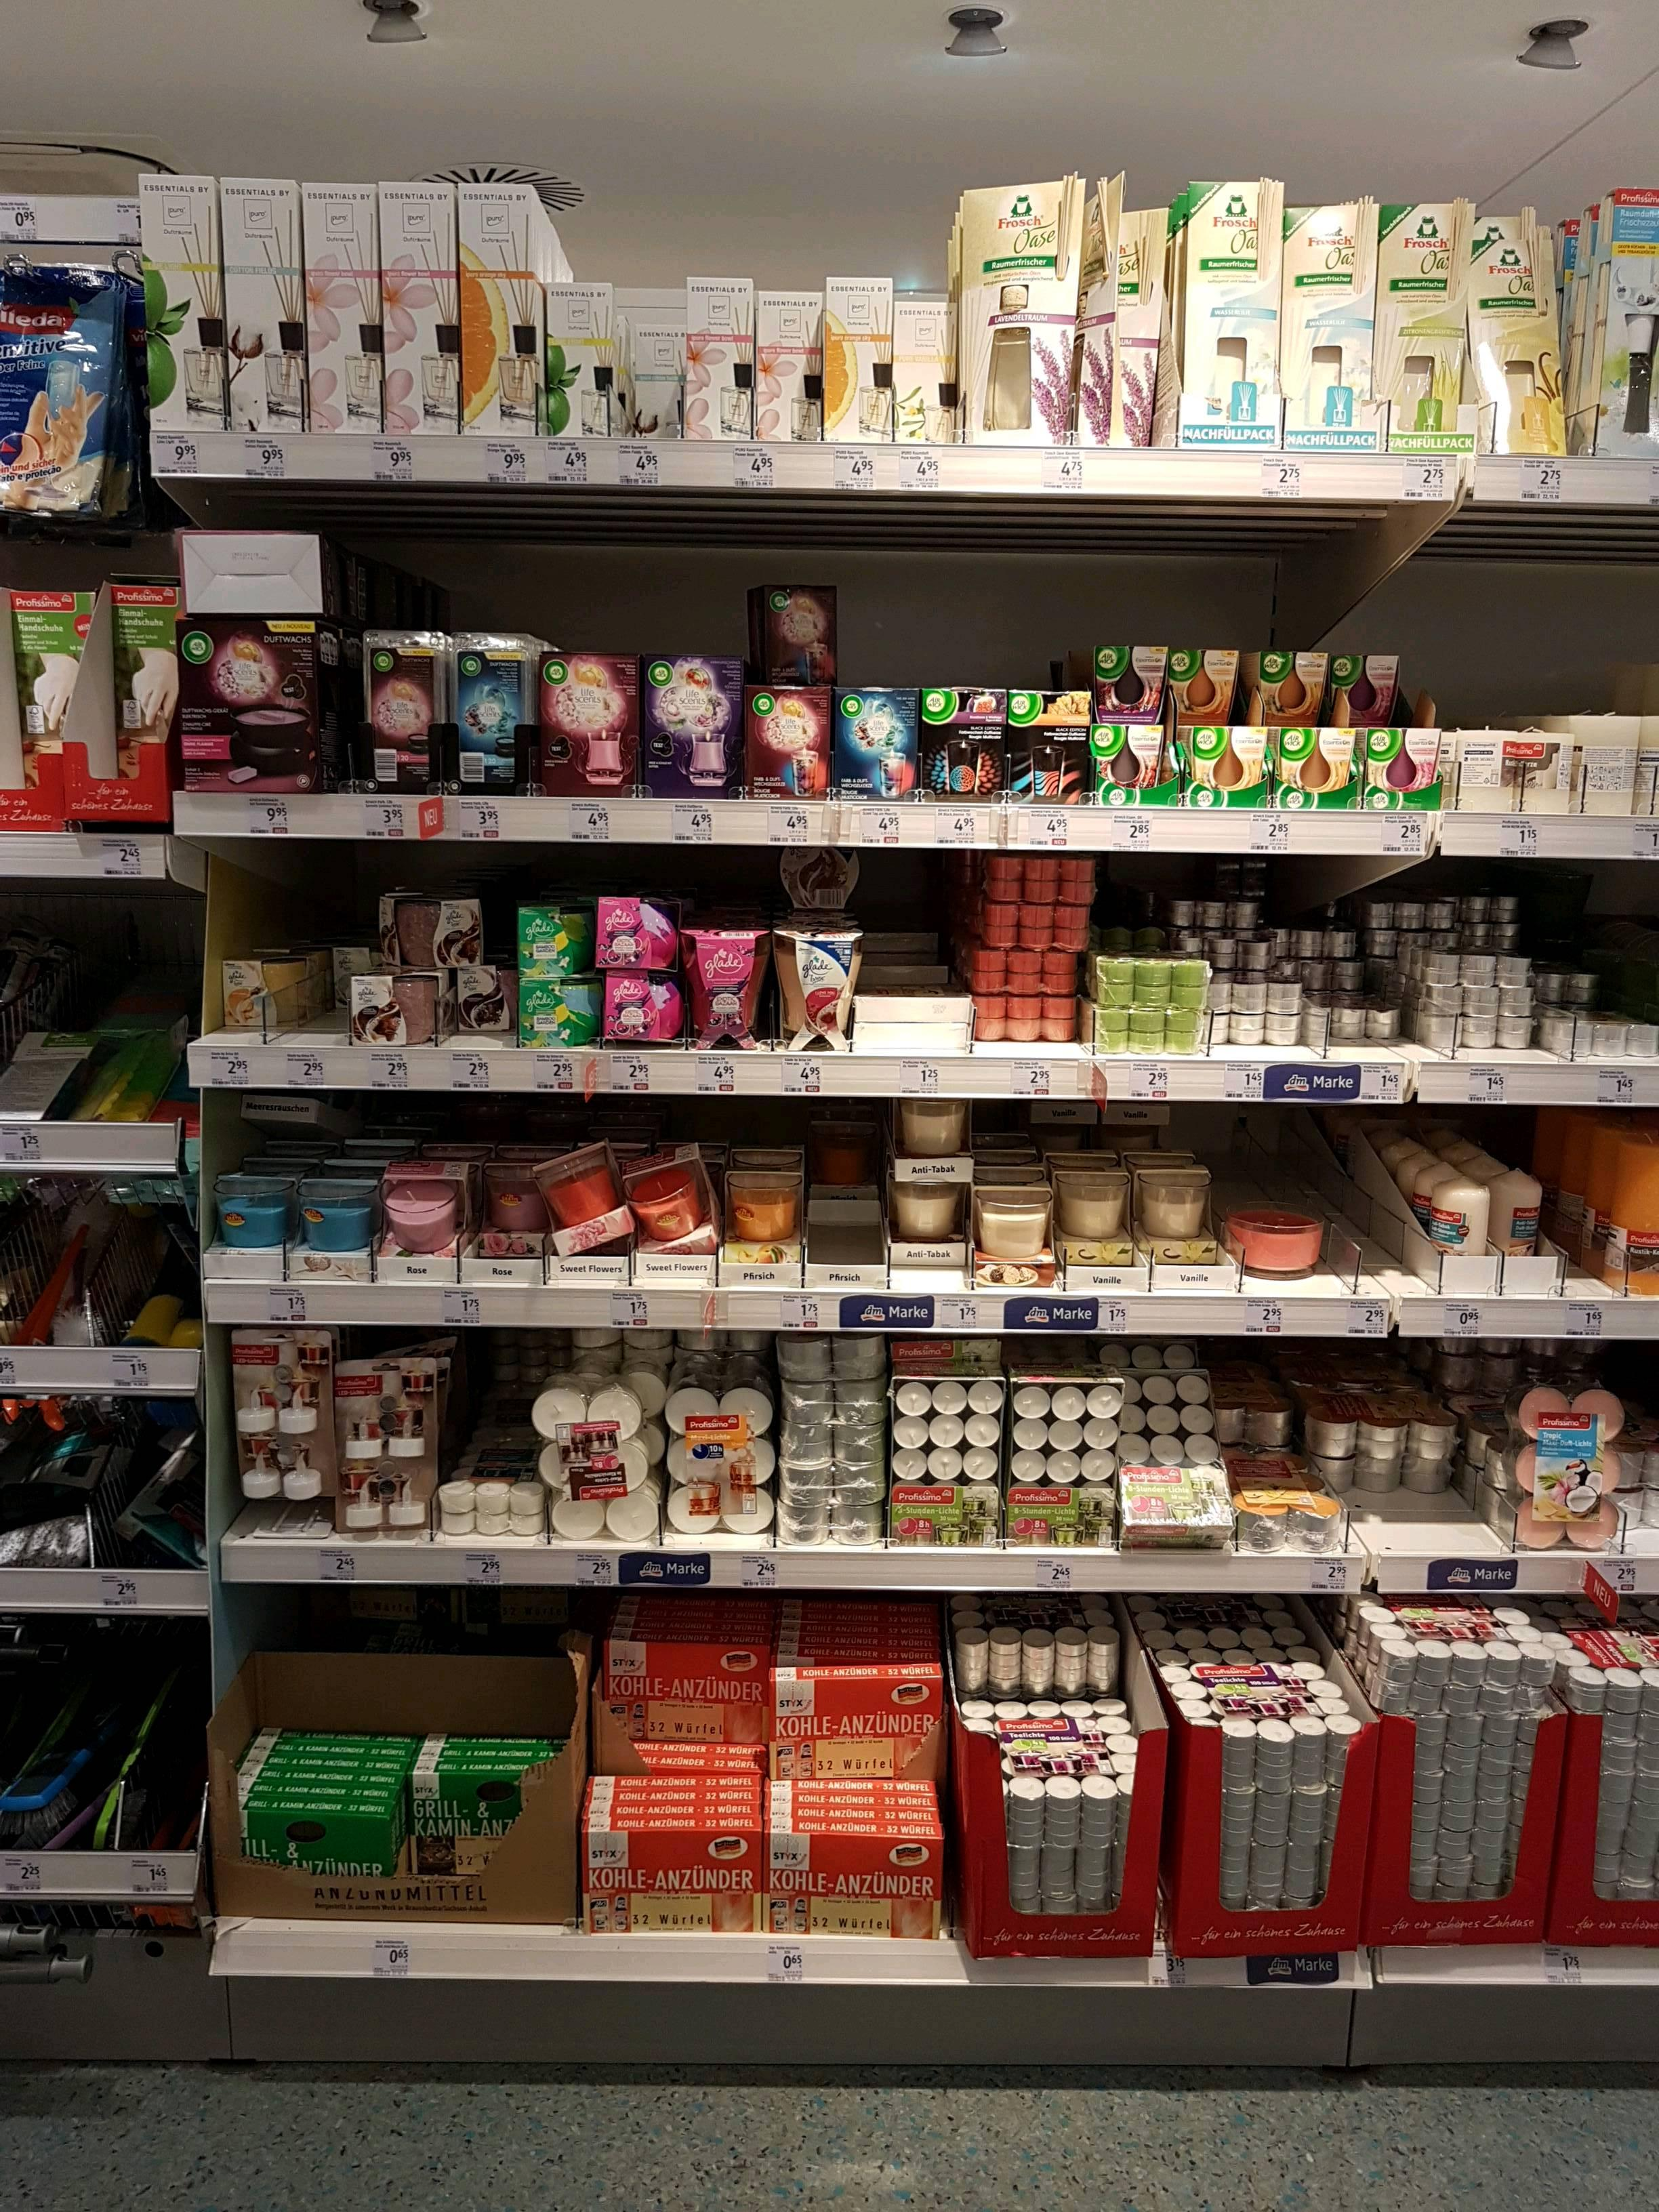misalignment: (1131, 1362, 1213, 1543), (179, 528, 331, 615), (1086, 183, 1127, 425), (633, 1139, 718, 1251), (744, 585, 840, 679), (538, 1151, 631, 1245), (383, 1167, 460, 1252)
